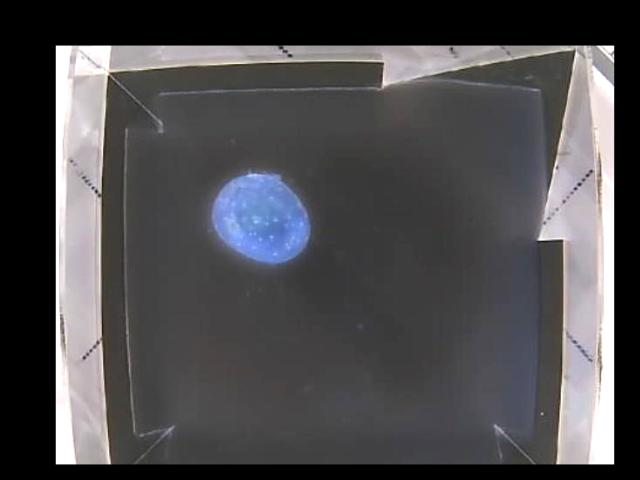Potato: (211, 172, 311, 263)
